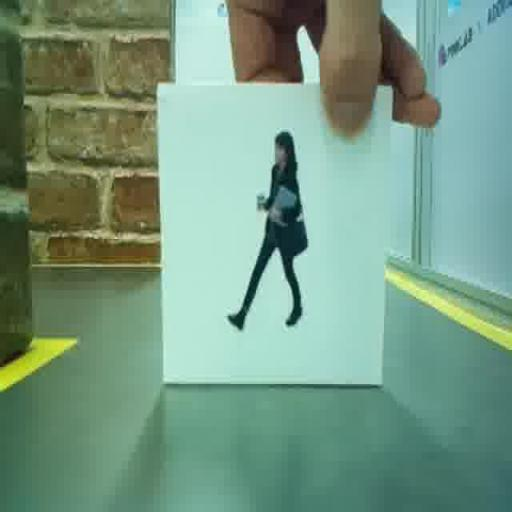human: (226, 132, 306, 330)
